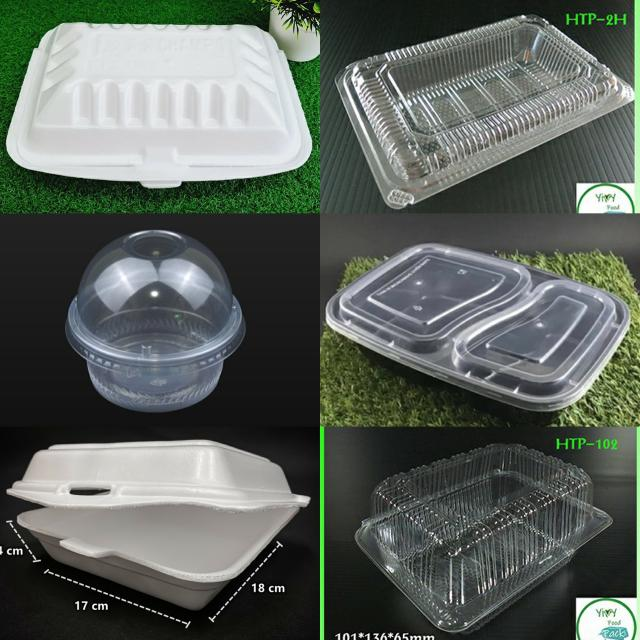Single-Use-Plastic: (335, 15, 634, 209), (8, 440, 309, 610), (6, 22, 311, 188), (327, 244, 629, 411), (355, 444, 612, 632), (65, 230, 245, 412)
